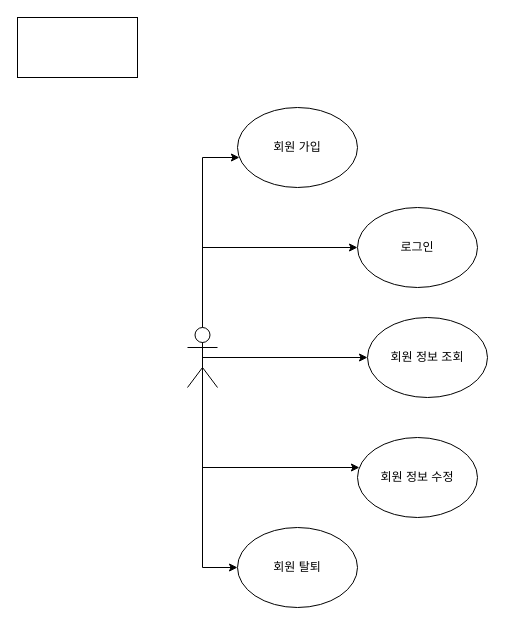
The diagram is 505 pixels wide and 625 high, and some of its shapes have lost their labels. The shapes that lost their labels are listed below. From the top down, each one's centre as x and y in pixels, then its label:
At point 77,47: "회원 관리".
At point 202,357: "사용자".
